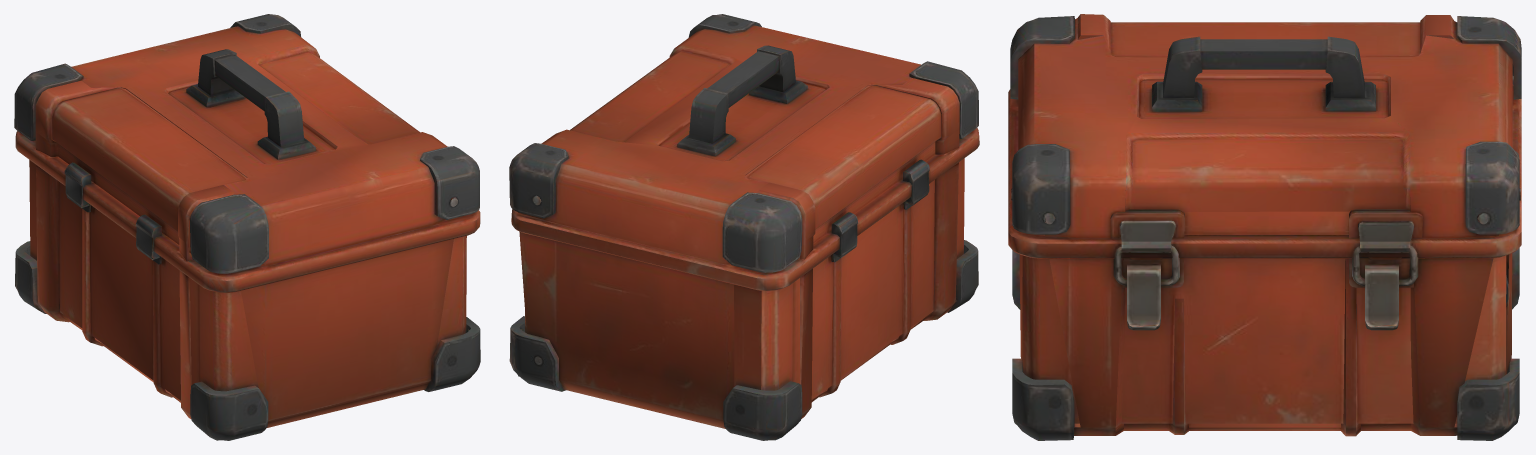
File: survival-toolbox.glb
The picture shows the model from 3 angles, left to right: view 1: azimuth 30°, elevation 25°; view 2: azimuth 150°, elevation 25°; view 3: azimuth 270°, elevation 25°; orthographic projection. The views are drawn at different scales.
Parts seen in each view (by area): view 1: tripo_node_659d1cc6-249d-496f-9e4a-2ff0103ddd01; view 2: tripo_node_659d1cc6-249d-496f-9e4a-2ff0103ddd01; view 3: tripo_node_659d1cc6-249d-496f-9e4a-2ff0103ddd01.
Boxes of the visible parts, x1,y1,x2,y2 form: tripo_node_659d1cc6-249d-496f-9e4a-2ff0103ddd01: (14,14,480,440); tripo_node_659d1cc6-249d-496f-9e4a-2ff0103ddd01: (509,14,979,440); tripo_node_659d1cc6-249d-496f-9e4a-2ff0103ddd01: (1008,14,1521,440).
Size of the model in its own units: 0.7715 by 0.7012 by 0.998.
1 material, 1 textured.
